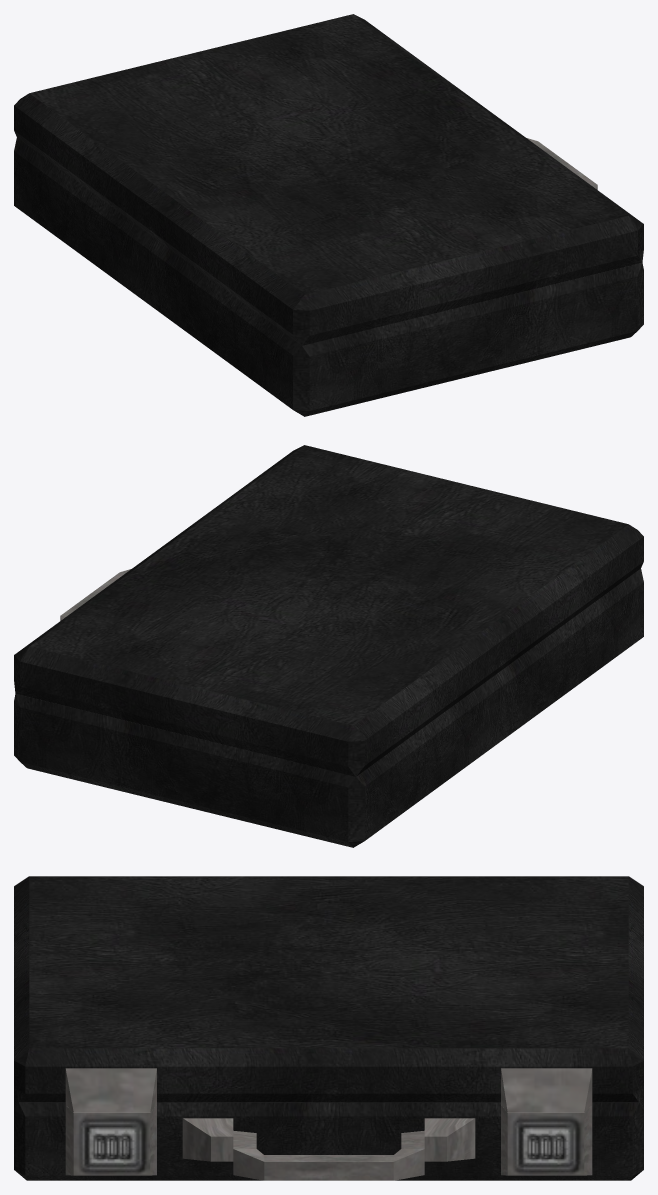
Rendered from suitcase03.gltf.
3 renders of one model, top to bottom at view 1: azimuth 30°, elevation 25°; view 2: azimuth 150°, elevation 25°; view 3: azimuth 270°, elevation 25°, orthographic. The views are drawn at different scales.
Parts seen in each view (by area): view 1: Top, Bottom; view 2: Top, Bottom; view 3: Top, Bottom.
Boxes of the visible parts, <box> form: Top: <box>14,14,643,345</box>; Bottom: <box>14,137,643,416</box>; Top: <box>14,445,643,776</box>; Bottom: <box>14,568,643,847</box>; Top: <box>14,876,643,1112</box>; Bottom: <box>14,1088,643,1180</box>.
Bounding box in the file's own units: 0.4029 × 0.1125 × 0.4873.
Materials: 1 (1 with a texture image).
